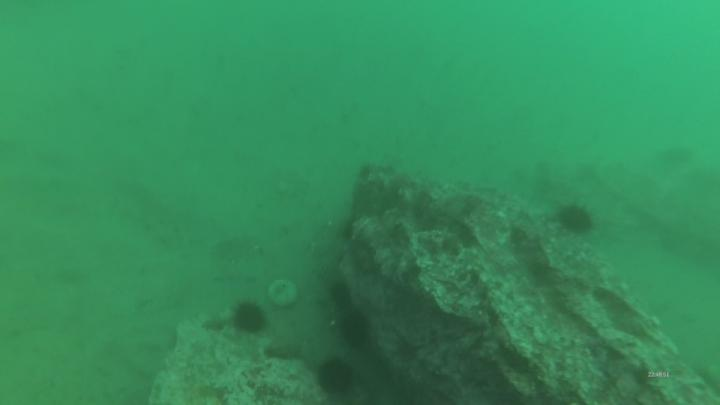echinus: (313, 358, 360, 400), (229, 300, 271, 339), (555, 200, 596, 236), (338, 311, 371, 350), (329, 281, 356, 315)
